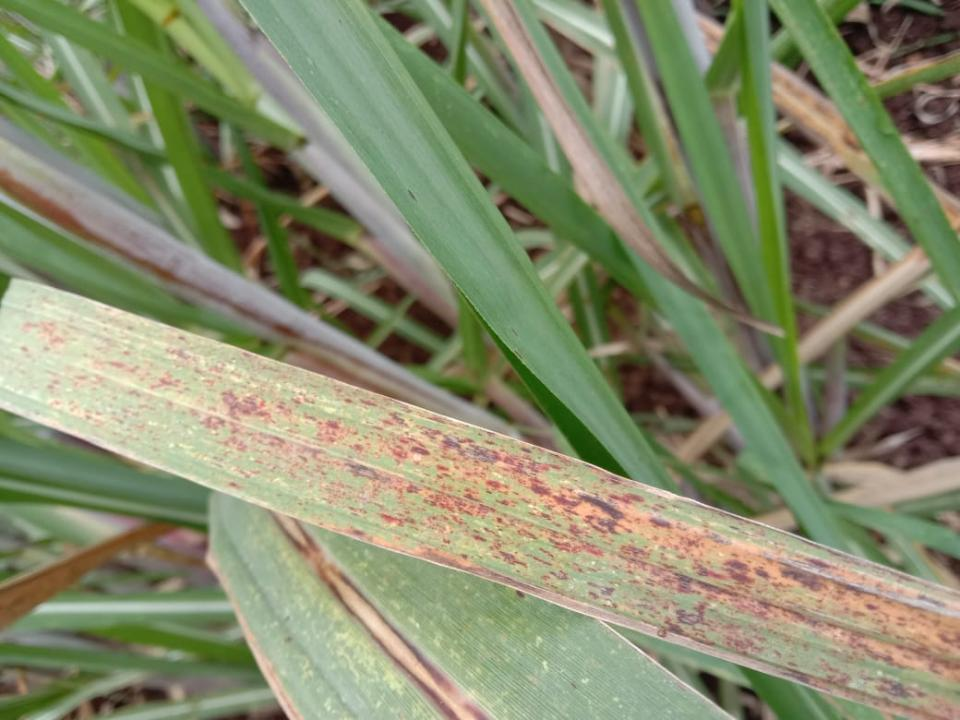RedRot: (269, 511, 486, 719)
Rust: (1, 279, 959, 719)
